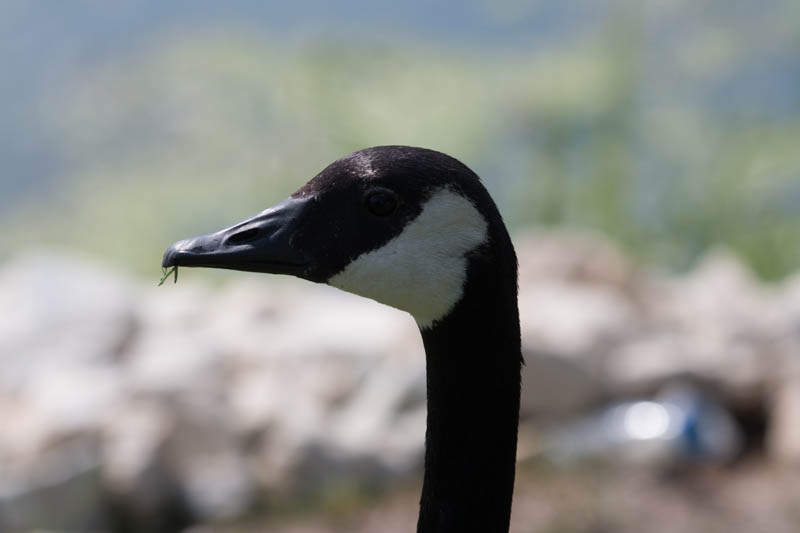goose-head: (160, 146, 518, 330)
